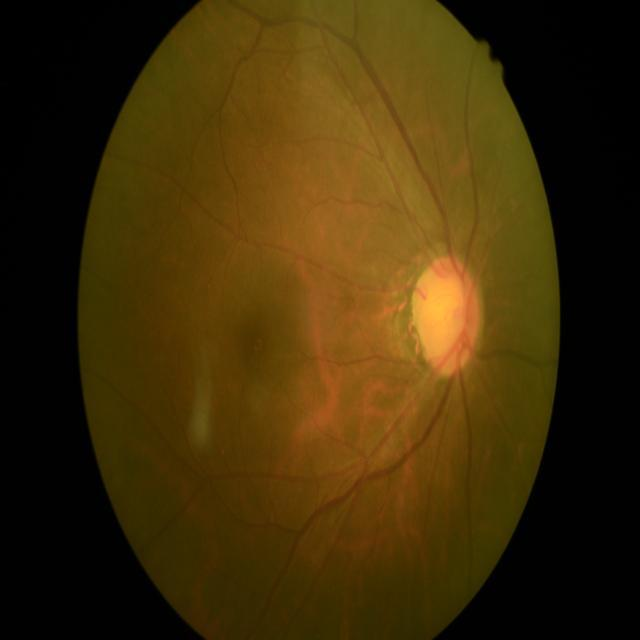cup: (428, 278, 468, 358)
disk: (411, 256, 484, 375)
